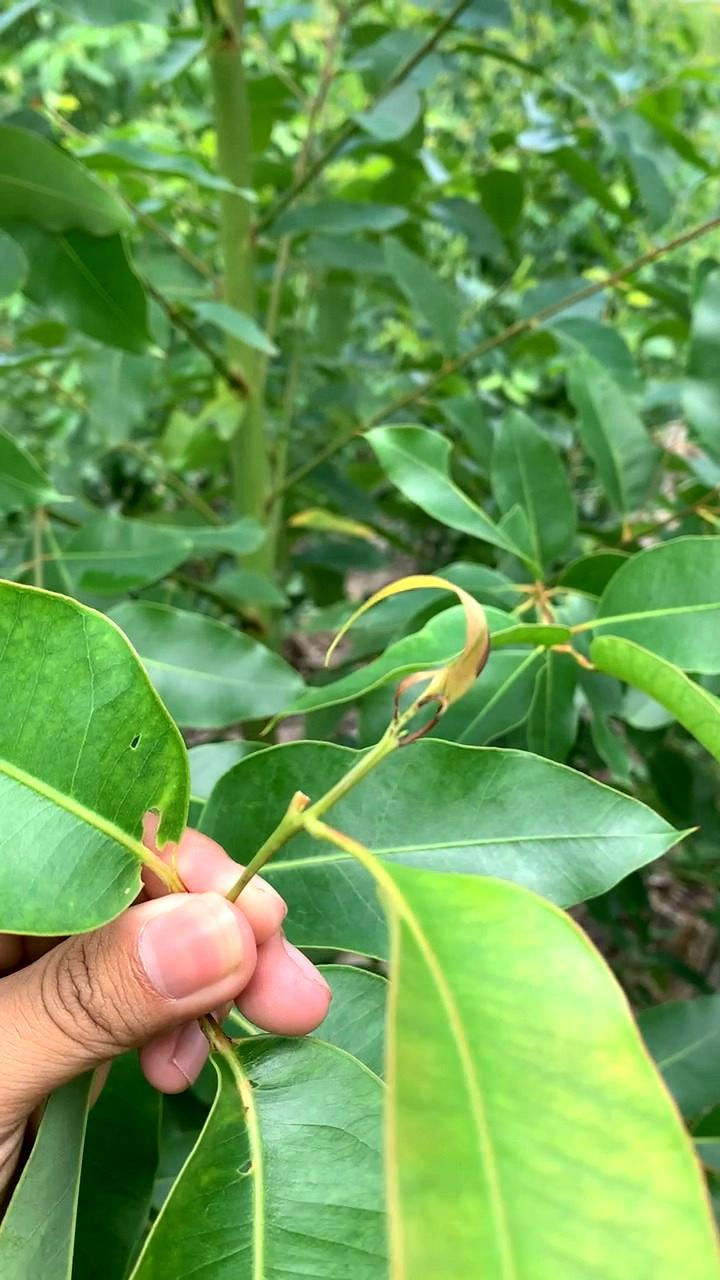Helopeltis-Withered Sprout: (315, 533, 506, 769)
